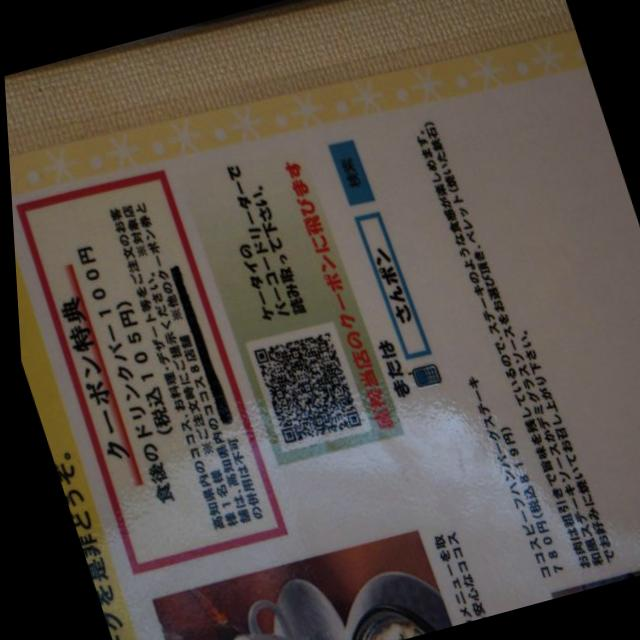qrcode: (249, 330, 357, 445)
